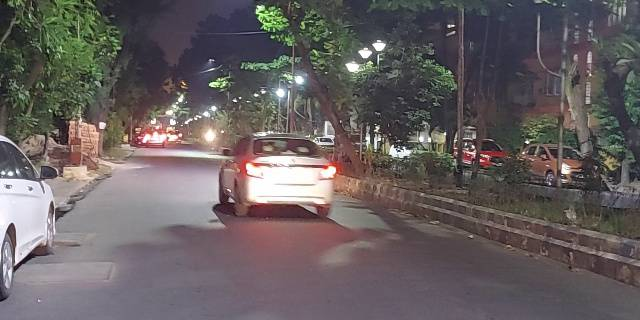Car: (220, 130, 335, 218)
